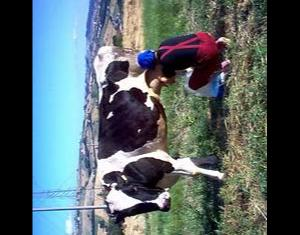cow: (92, 45, 226, 224)
